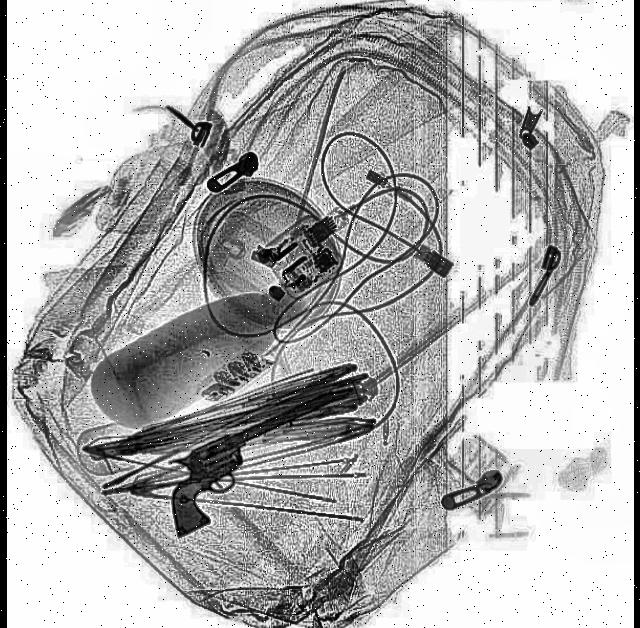Gun: (152, 392, 356, 540)
